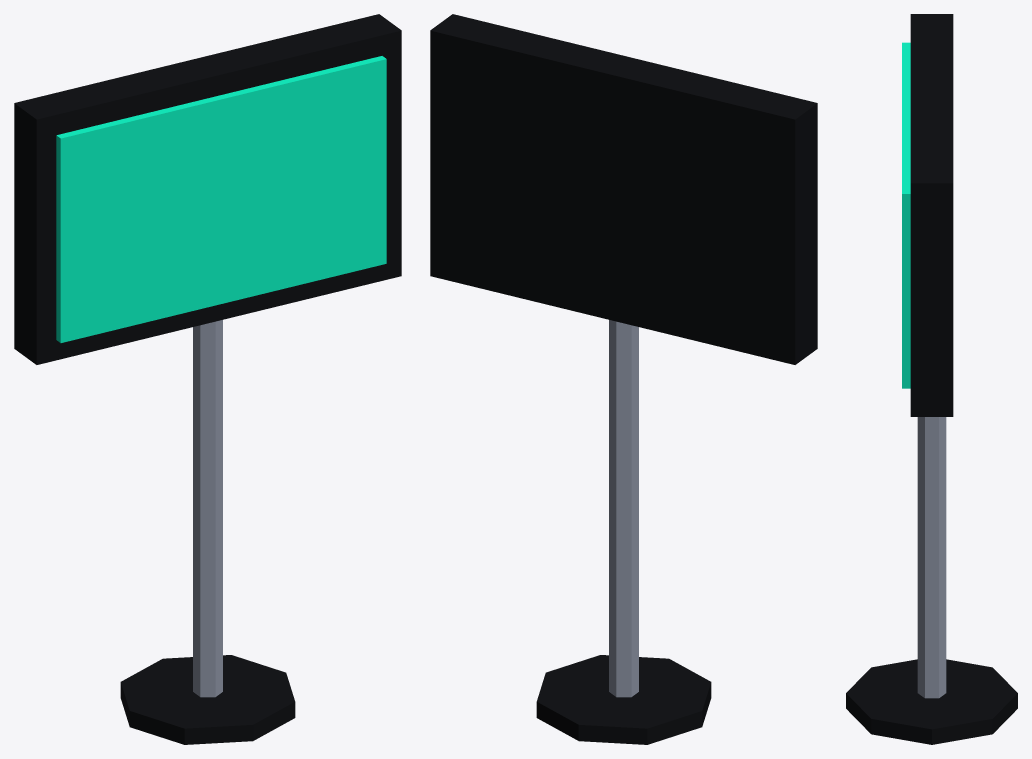
File: score_screen.obj
3 renders of one model, left to right at view 1: azimuth 30°, elevation 25°; view 2: azimuth 150°, elevation 25°; view 3: azimuth 270°, elevation 25°, orthographic. The views are drawn at different scales.
Parts seen in each view (by area): view 1: score_screen; view 2: score_screen; view 3: score_screen.
Part boxes in pixels (x1,y1,x2,y2): score_screen: [14, 14, 401, 744]; score_screen: [430, 14, 817, 744]; score_screen: [846, 14, 1017, 744].
Size of the model in its own units: 1.4 by 2.35 by 0.6.
